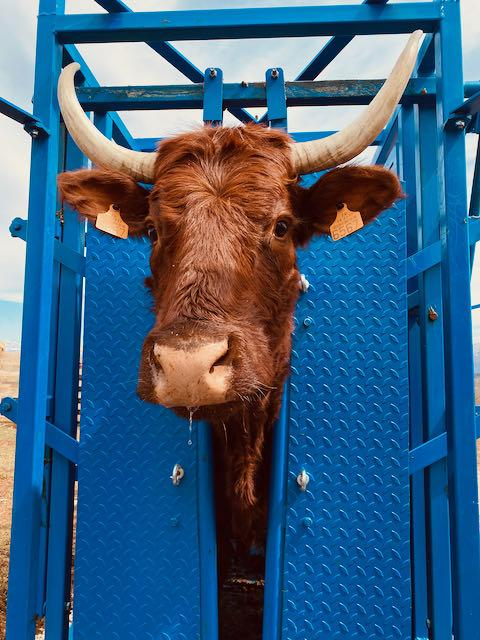muzzles: (131, 334, 248, 415)
